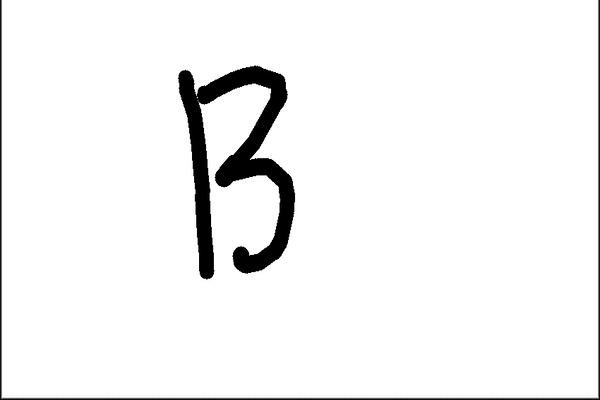B: (165, 52, 305, 290)
